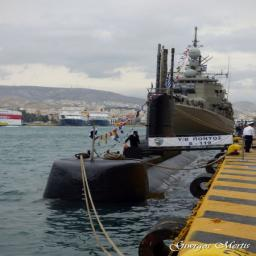submarine: (41, 148, 203, 201)
